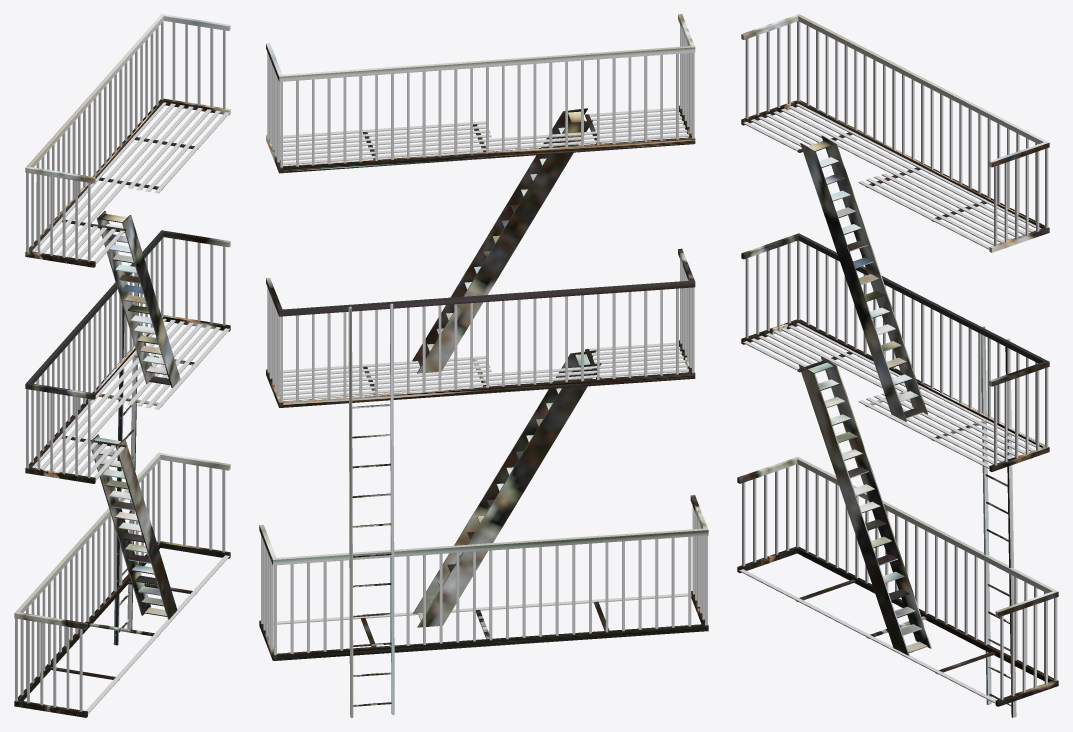
File: FireExitBuilding8.fbx
The picture shows the model from 3 angles, left to right: view 1: azimuth 30°, elevation 25°; view 2: azimuth 150°, elevation 25°; view 3: azimuth 270°, elevation 25°; orthographic projection. The views are drawn at different scales.
Parts seen in each view (by area): view 1: Cube.105; view 2: Cube.105; view 3: Cube.105.
Boxes of the visible parts, box(x1,y1,x2,y2) form: Cube.105: box(14, 14, 230, 717); Cube.105: box(259, 14, 708, 717); Cube.105: box(737, 14, 1058, 717).
Bounding box in the file's own units: 510 × 914 × 445.
